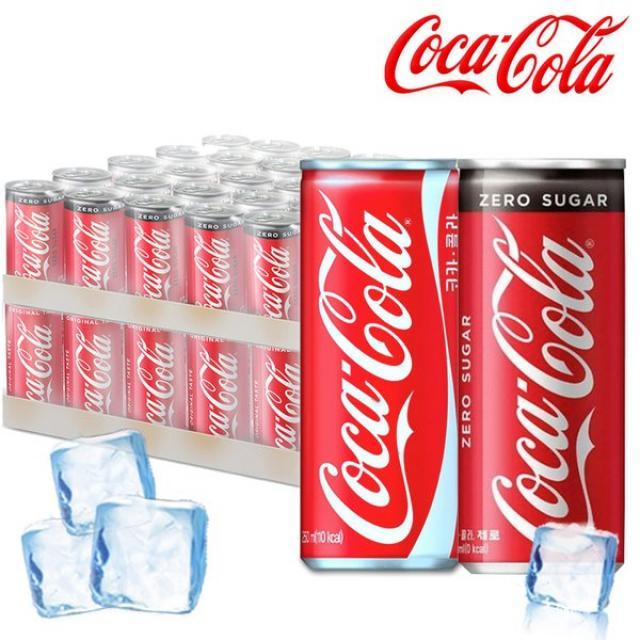coca-cola: (458, 148, 630, 576), (298, 151, 462, 577), (121, 322, 185, 432), (123, 193, 185, 305), (61, 187, 125, 293), (188, 332, 248, 444), (4, 304, 64, 412), (4, 175, 62, 285), (65, 312, 123, 421), (187, 205, 243, 315), (246, 216, 298, 324), (249, 340, 297, 454)
